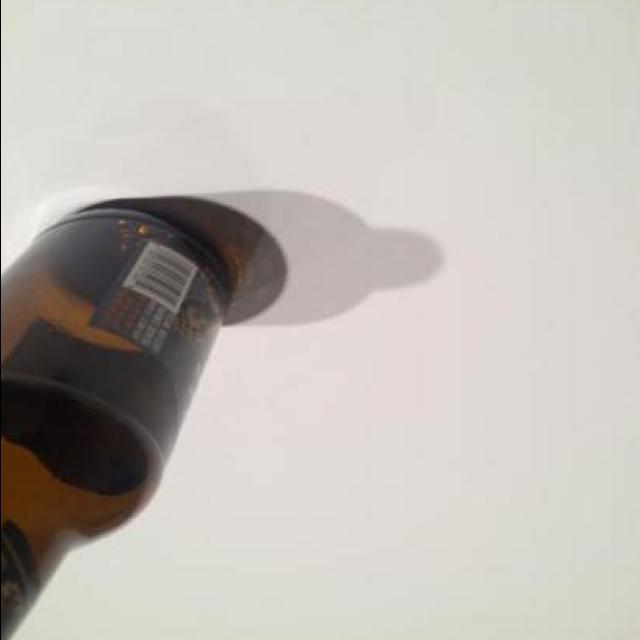kaca: (1, 207, 230, 640)
